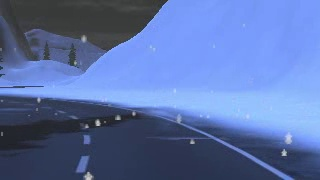Lane: (0, 93, 294, 179)
